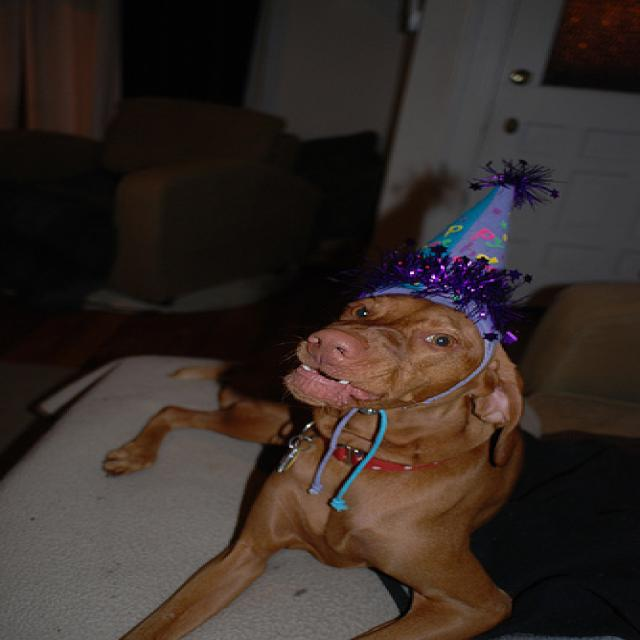chair: (15, 72, 317, 314), (529, 246, 640, 450)
dog: (212, 288, 503, 640)
